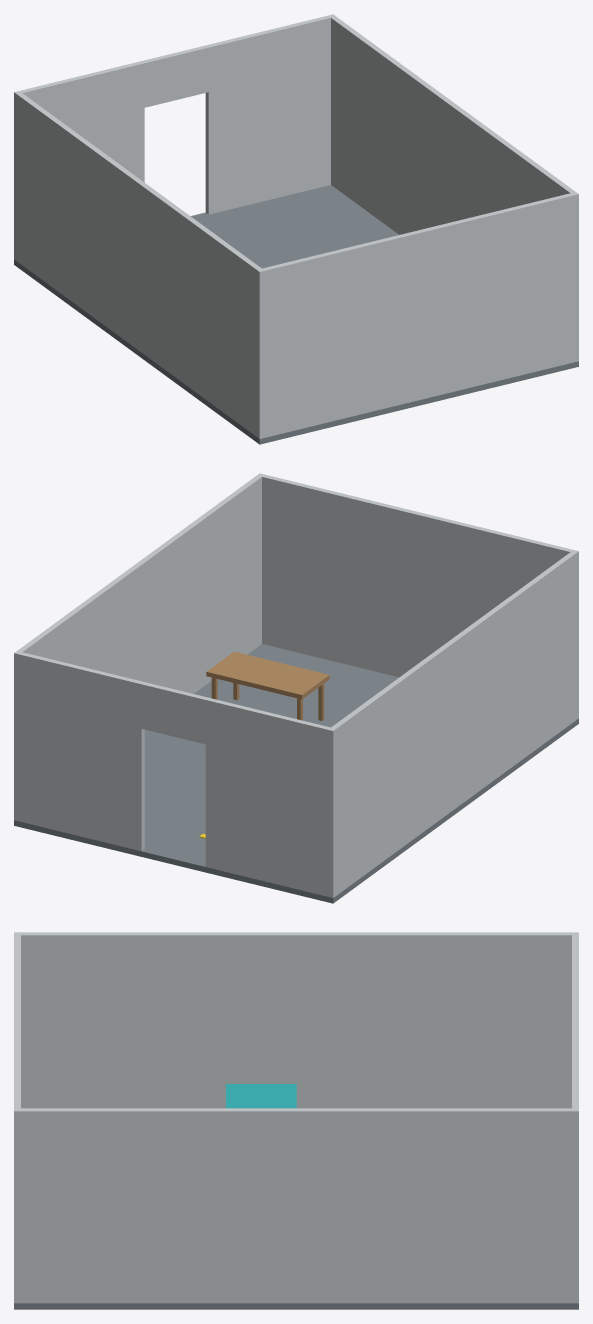
File: sample-room.glb
3 views of the same model, one above another, from view 1: azimuth 30°, elevation 25°; view 2: azimuth 150°, elevation 25°; view 3: azimuth 270°, elevation 25° (orthographic). The views are drawn at different scales.
Visible parts, largest first — view 1: Back wall, West wall, East wall, Entry wall right, Floor: 6 x 8 m, Entry wall left, Door lintel; view 2: West wall, Back wall, East wall, Entry wall right, Entry wall left, Floor: 6 x 8 m, Desk top, Door lintel; view 3: East wall, West wall, Floor: 6 x 8 m, Back wall, One meter calibration cube, Entry wall right, Entry wall left.
Part boxes in pixels (bbox=[...]): Back wall: bbox=[256, 193, 578, 438]; West wall: bbox=[14, 91, 264, 438]; East wall: bbox=[328, 14, 578, 362]; Entry wall right: bbox=[205, 15, 334, 214]; Floor: 6 x 8 m: bbox=[14, 185, 578, 444]; Entry wall left: bbox=[14, 61, 144, 260]; Door lintel: bbox=[142, 45, 208, 107]; West wall: bbox=[328, 550, 578, 897]; Back wall: bbox=[257, 473, 578, 703]; East wall: bbox=[14, 473, 264, 821]; Entry wall right: bbox=[14, 652, 144, 851]; Entry wall left: bbox=[205, 697, 336, 896]; Floor: 6 x 8 m: bbox=[14, 644, 578, 903]; Desk top: bbox=[206, 651, 329, 699]; Door lintel: bbox=[141, 682, 207, 744]; East wall: bbox=[14, 1108, 578, 1303]; West wall: bbox=[14, 932, 578, 1108]; Floor: 6 x 8 m: bbox=[14, 1303, 578, 1309]; Back wall: bbox=[14, 932, 20, 1303]; One meter calibration cube: bbox=[226, 1084, 296, 1108]; Entry wall right: bbox=[572, 1039, 578, 1303]; Entry wall left: bbox=[572, 933, 578, 1003].
Bounding box in the file's own units: 6 × 3.1 × 8.
